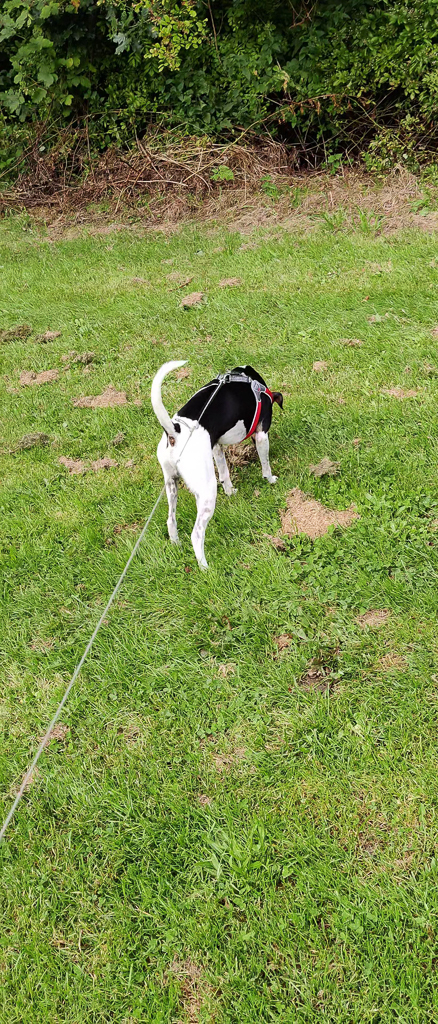Dog: (139, 355, 293, 575)
